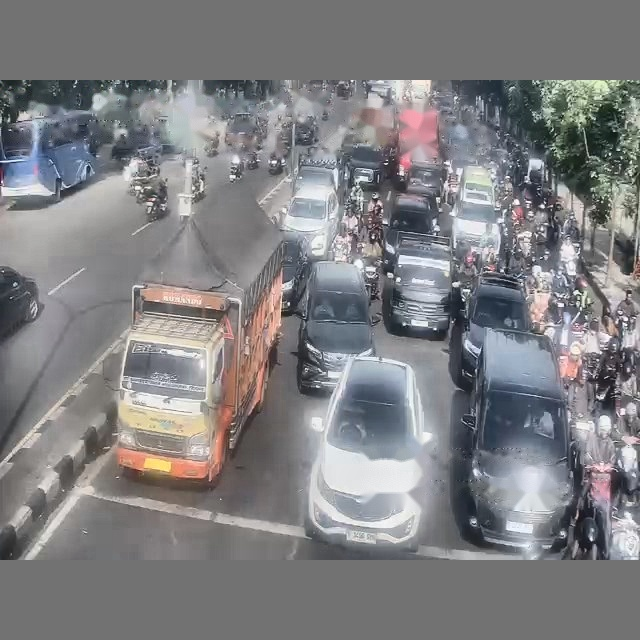Bis: (0, 111, 100, 201)
Mobil: (462, 330, 575, 549), (304, 357, 432, 550), (296, 261, 374, 392), (457, 272, 531, 388), (382, 233, 451, 338), (281, 185, 340, 260), (382, 193, 438, 272), (450, 194, 502, 249), (0, 266, 39, 335), (294, 154, 343, 199), (282, 232, 309, 312), (348, 144, 386, 188), (405, 161, 443, 205), (225, 111, 262, 148), (295, 116, 318, 145), (336, 81, 351, 98)
Motor: (353, 256, 381, 299), (145, 193, 166, 221), (268, 157, 286, 175)
Truk: (117, 185, 283, 485)
